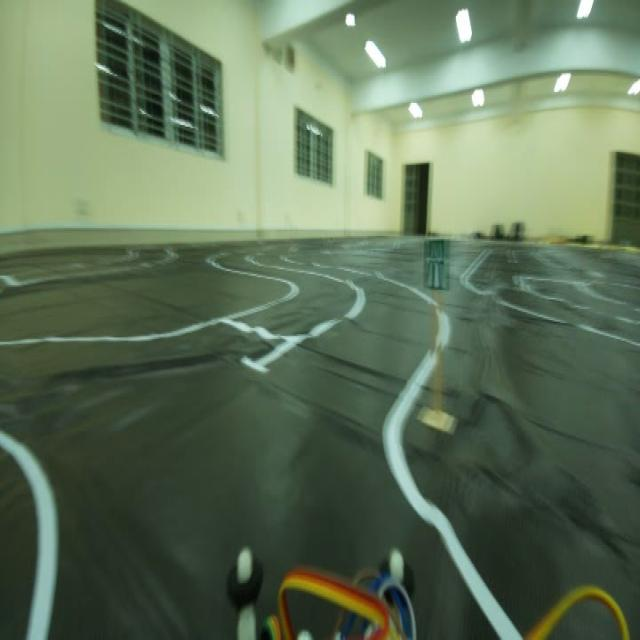highway_entry: (418, 231, 455, 312)
